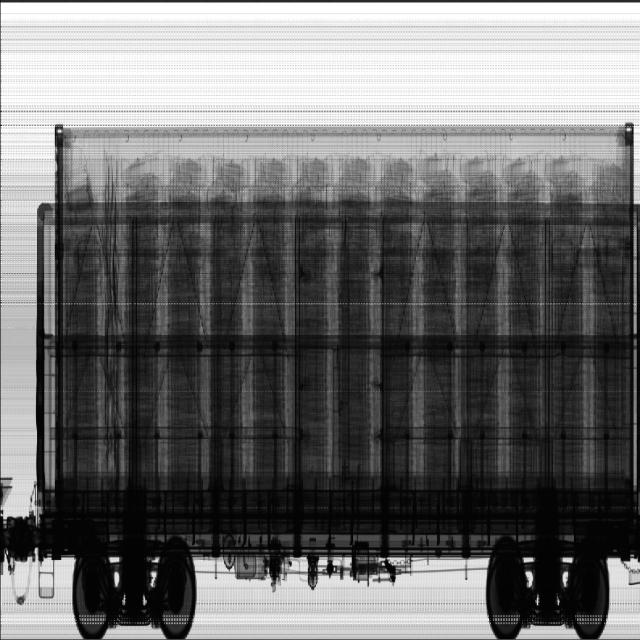table warre: (66, 158, 249, 286)
